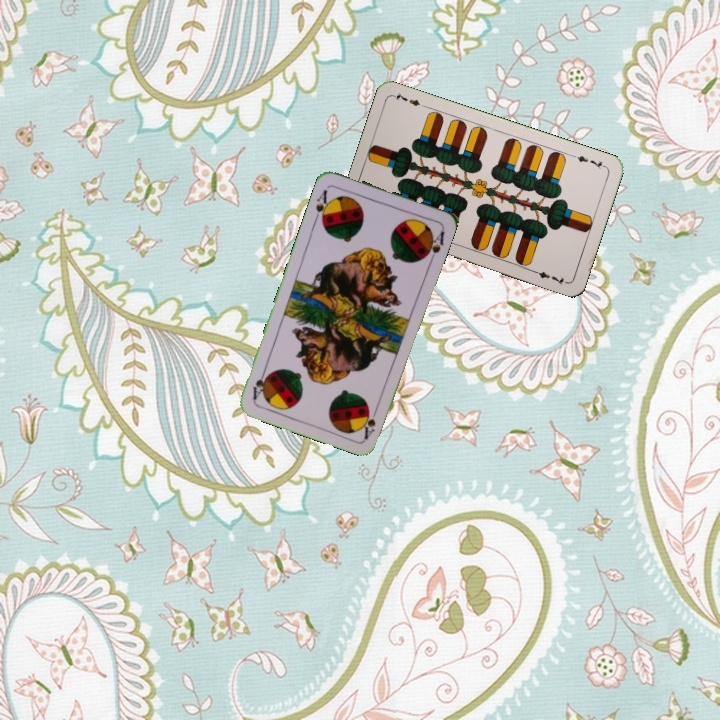E7: (569, 151, 608, 172)
SA: (310, 185, 333, 226), (360, 402, 381, 441)
